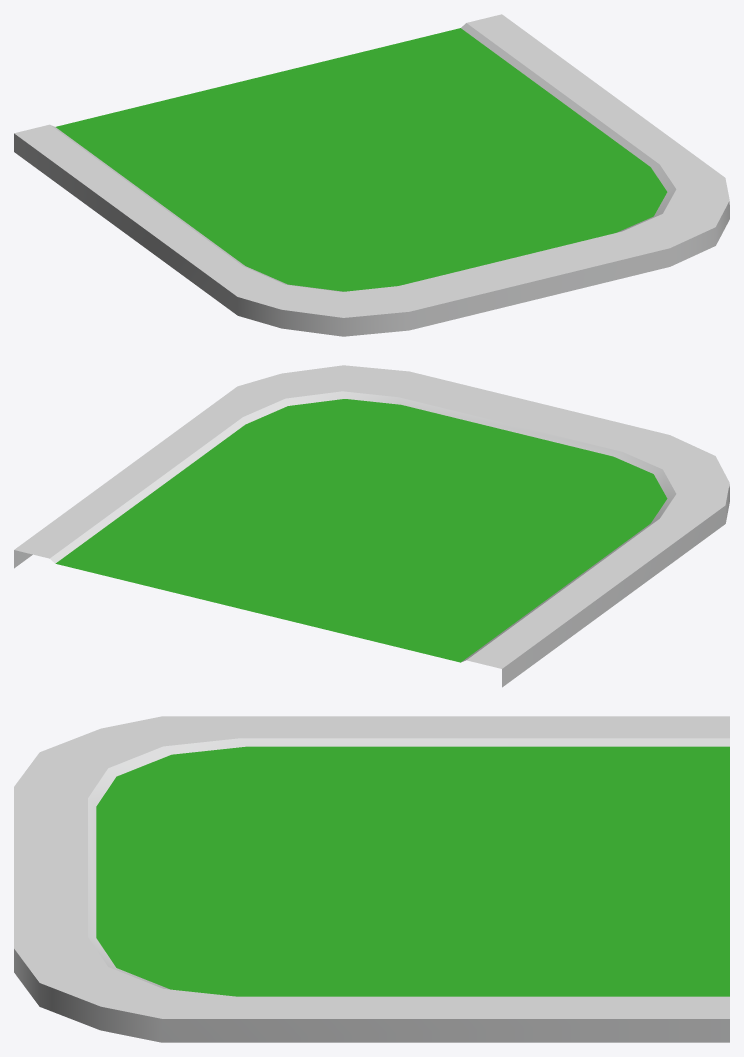
File: GrassBed_1_B_8.fbx
3 renders of one model, top to bottom at view 1: azimuth 30°, elevation 25°; view 2: azimuth 150°, elevation 25°; view 3: azimuth 270°, elevation 25°, orthographic. The views are drawn at different scales.
Parts seen in each view (by area): view 1: GrassBed_1_B_8; view 2: GrassBed_1_B_8; view 3: GrassBed_1_B_8.
Boxes of the visible parts, x1,y1,x2,y2 form: GrassBed_1_B_8: [14, 14, 729, 336]; GrassBed_1_B_8: [14, 365, 729, 687]; GrassBed_1_B_8: [14, 716, 729, 1042].
Size of the model in its own units: 200 by 7.32 by 200.
